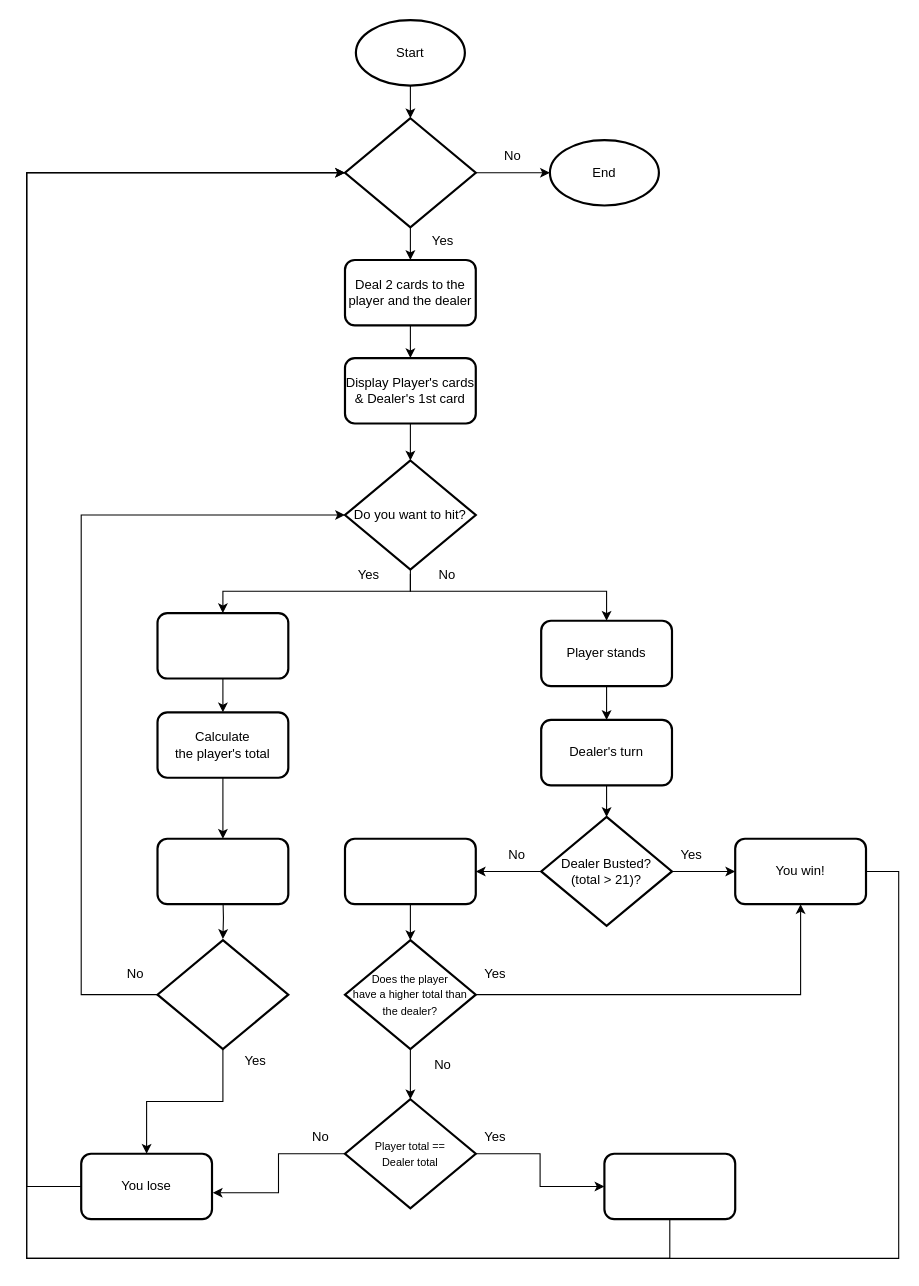
Some shapes in this 919 by 1286 pixel diagram are drawn without their labels. Here are the shapes that lost their labels. From the top down, the centre of each, then its label:
the point at 409,172: Do you want to play Blackjack?
the point at 222,645: Deal a card to the player
the point at 222,871: Display new card
the point at 409,871: Calculate the player's total & Dealer's total
the point at 222,994: Player Busted? (total > 21)?
the point at 669,1186: Push(Tie)
